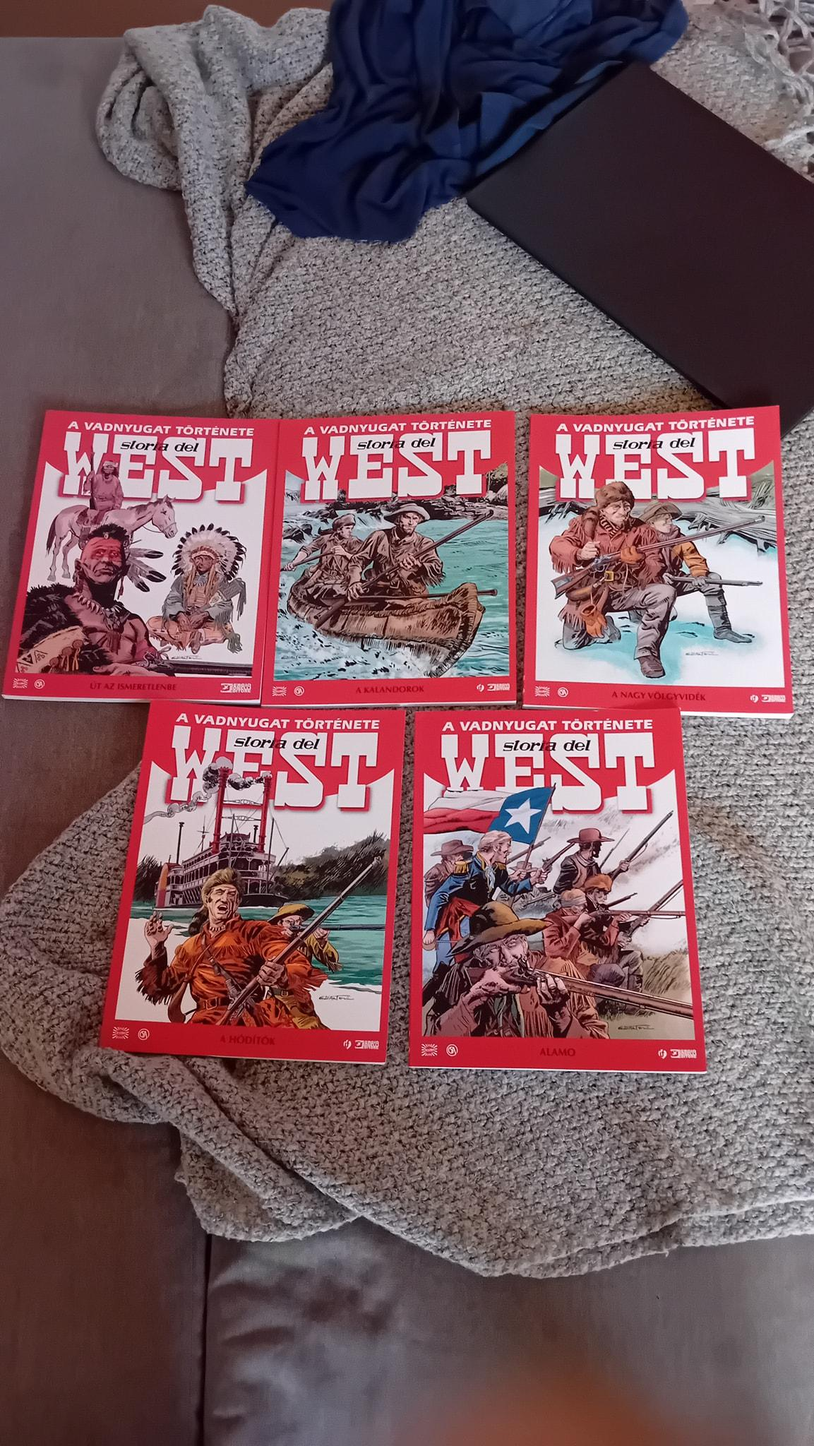comic: (100, 690, 413, 1071), (410, 704, 710, 1070), (524, 402, 798, 715), (4, 410, 278, 706), (263, 412, 514, 705)
